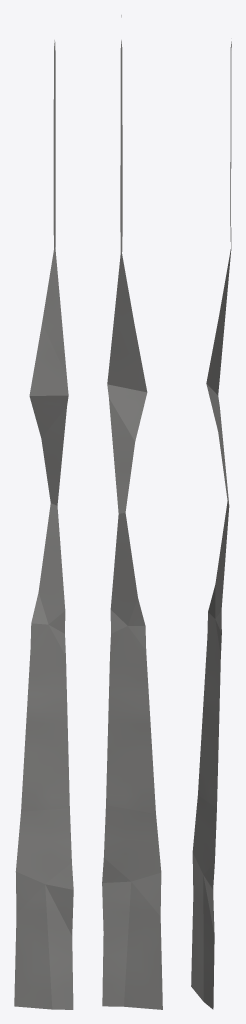
3 views of the same model, side by side, from view 1: azimuth 30°, elevation 25°; view 2: azimuth 210°, elevation 25°; view 3: azimuth 330°, elevation 25° (orthographic). The views are drawn at different scales.
Bounding box in the file's own units: 0.00948 × 0.2186 × 0.00754.
1 material, 1 textured.
